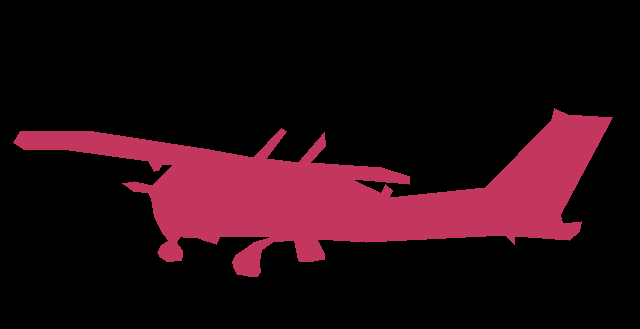Airplane: (13, 108, 612, 276)
